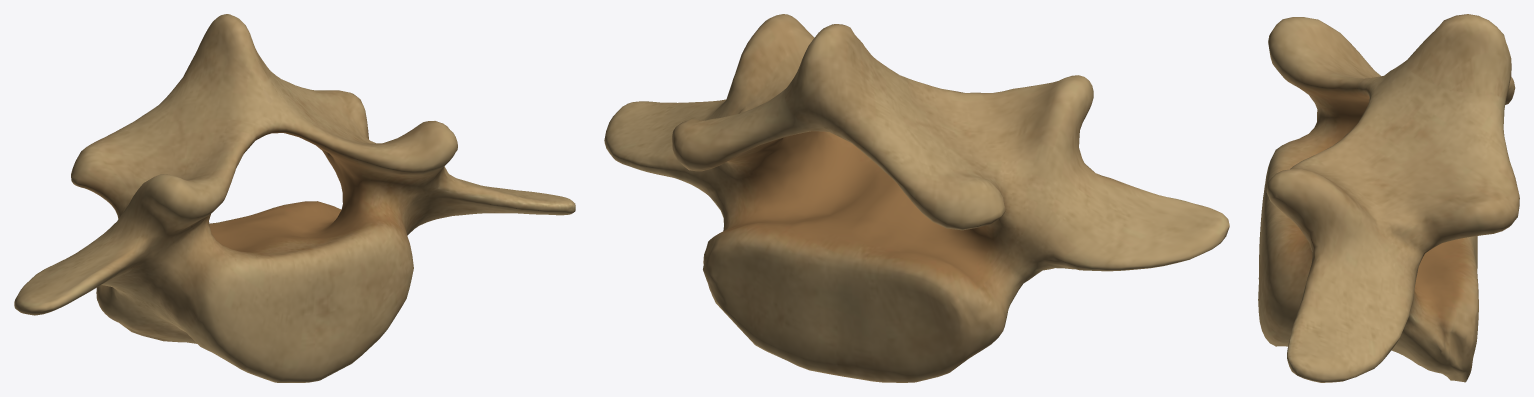
3 views of the same model, side by side, from view 1: azimuth 30°, elevation 25°; view 2: azimuth 150°, elevation 25°; view 3: azimuth 270°, elevation 25° (orthographic). The views are drawn at different scales.
Visible parts, largest first — view 1: ZBrush_defualt_group.005; view 2: ZBrush_defualt_group.005; view 3: ZBrush_defualt_group.005.
Boxes of the visible parts, x1=… form: ZBrush_defualt_group.005: x1=14, y1=14, x2=575, y2=382; ZBrush_defualt_group.005: x1=604, y1=14, x2=1229, y2=382; ZBrush_defualt_group.005: x1=1258, y1=14, x2=1519, y2=382.
Bounding box in the file's own units: 107 × 58.8 × 40.63.
Materials: 1 (1 with a texture image).
